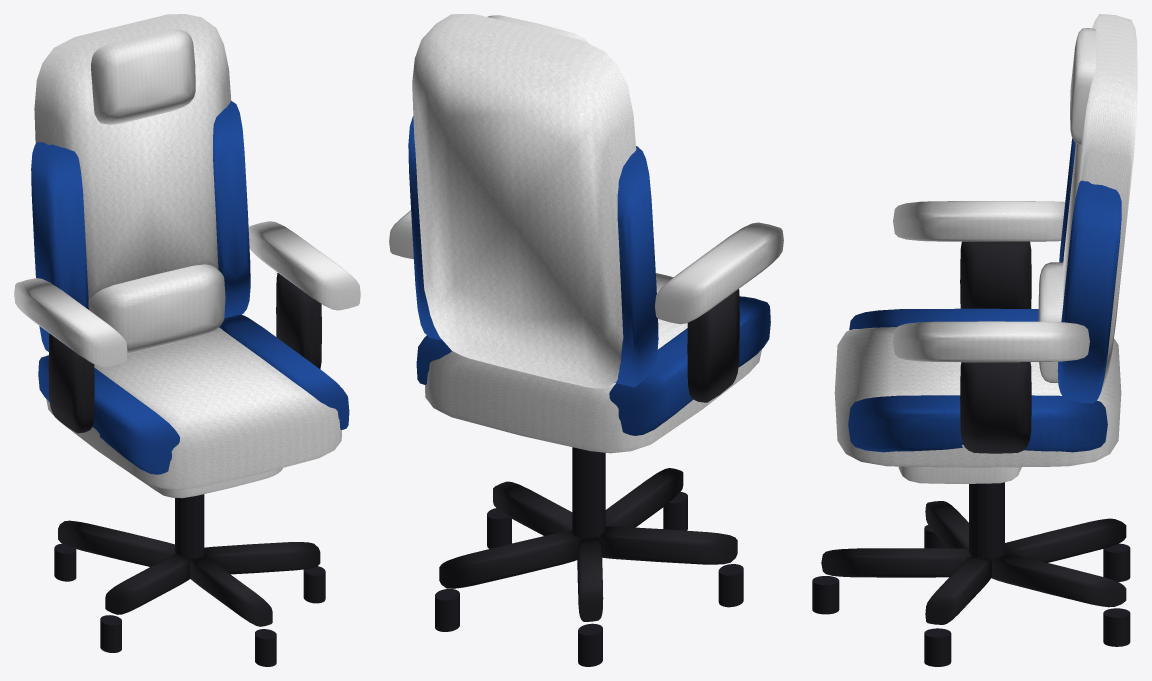
The picture shows the model from 3 angles, left to right: view 1: azimuth 30°, elevation 25°; view 2: azimuth 150°, elevation 25°; view 3: azimuth 270°, elevation 25°; orthographic projection. The views are drawn at different scales.
Parts seen in each view (by area): view 1: 16 backrest, 13 seat, 19 lumbar_pillow, 20 headrest, 17 backrest_accent_left, 18 backrest_accent_right, 14 seat_accent_left, 23 armrest_pad_left, 24 armrest_pad_right, 15 seat_accent_right, 21 armrest_support_left, 9 base_spoke_4 (+10 smaller); view 2: 16 backrest, 13 seat, 17 backrest_accent_left, 23 armrest_pad_left, 14 seat_accent_left, 21 armrest_support_left, 8 base_spoke_3, 10 base_spoke_5, 11 center_column, 7 base_spoke_2, 6 base_spoke_1, 9 base_spoke_4 (+8 smaller); view 3: 13 seat, 16 backrest, 15 seat_accent_right, 18 backrest_accent_right, 24 armrest_pad_right, 23 armrest_pad_left, 22 armrest_support_right, 21 armrest_support_left, 6 base_spoke_1, 8 base_spoke_3, 9 base_spoke_4, 14 seat_accent_left (+11 smaller).
Boxes of the visible parts, <box> form: 16 backrest: <box>34,14,231,307</box>; 13 seat: <box>46,327,341,489</box>; 19 lumbar_pillow: <box>89,264,225,353</box>; 20 headrest: <box>91,29,195,124</box>; 17 backrest_accent_left: <box>31,142,88,351</box>; 18 backrest_accent_right: <box>213,101,250,318</box>; 14 seat_accent_left: <box>38,355,179,474</box>; 23 armrest_pad_left: <box>14,278,127,367</box>; 24 armrest_pad_right: <box>248,221,360,310</box>; 15 seat_accent_right: <box>219,314,349,429</box>; 21 armrest_support_left: <box>48,333,94,433</box>; 9 base_spoke_4: <box>58,520,175,566</box>; 16 backrest: <box>412,14,636,388</box>; 13 seat: <box>425,273,761,453</box>; 17 backrest_accent_left: <box>615,146,658,387</box>; 23 armrest_pad_left: <box>655,222,783,324</box>; 14 seat_accent_left: <box>609,296,770,435</box>; 21 armrest_support_left: <box>687,289,739,402</box>; 8 base_spoke_3: <box>439,530,578,588</box>; 10 base_spoke_5: <box>600,526,737,564</box>; 11 center_column: <box>572,447,605,538</box>; 7 base_spoke_2: <box>493,481,572,535</box>; 6 base_spoke_1: <box>605,468,683,527</box>; 9 base_spoke_4: <box>577,536,603,621</box>; 13 seat: <box>834,327,1121,467</box>; 16 backrest: <box>1063,14,1137,392</box>; 15 seat_accent_right: <box>848,395,1107,452</box>; 18 backrest_accent_right: <box>1057,180,1121,403</box>; 24 armrest_pad_right: <box>893,321,1089,362</box>; 23 armrest_pad_left: <box>893,201,1065,241</box>; 22 armrest_support_right: <box>960,362,1031,453</box>; 21 armrest_support_left: <box>960,241,1031,308</box>; 6 base_spoke_1: <box>821,548,971,577</box>; 8 base_spoke_3: <box>991,553,1126,607</box>; 9 base_spoke_4: <box>1005,518,1126,562</box>; 14 seat_accent_left: <box>849,308,1038,329</box>.
Size of the model in its own units: 0.52 by 1 by 0.52.
Materials: 5 (2 with a texture image).
